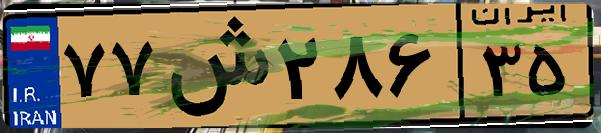2: (270, 28, 330, 110)
3: (475, 38, 525, 113)
5: (525, 38, 570, 115)
6: (385, 28, 445, 110)
7: (57, 26, 110, 100), (110, 28, 158, 98)
8: (330, 28, 385, 110)
ش: (158, 12, 270, 120)
